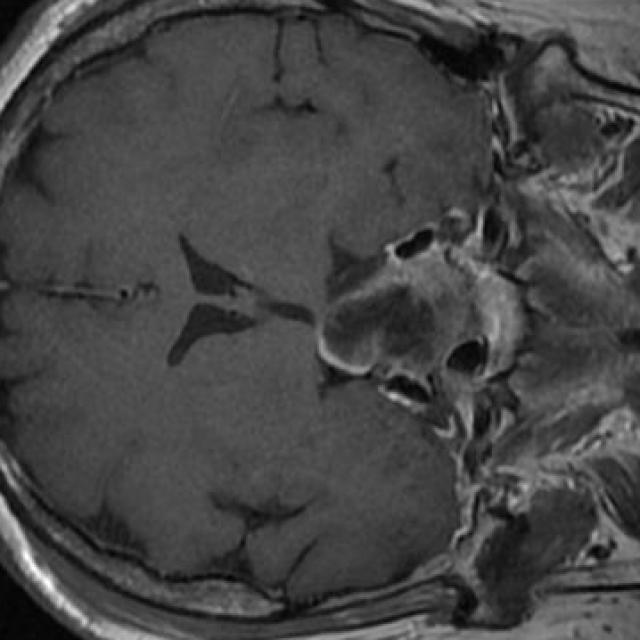pituitary: (324, 260, 476, 373)
